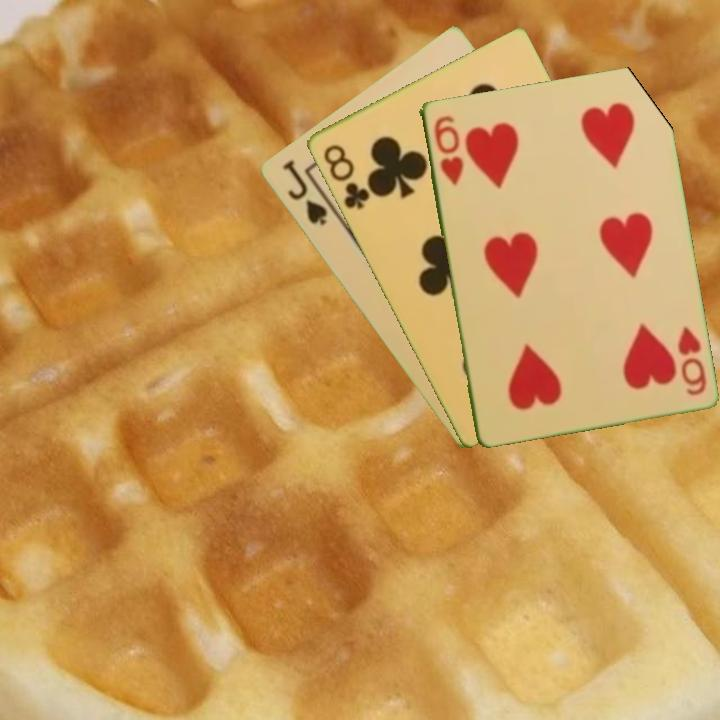6h: (430, 111, 466, 188), (673, 322, 709, 398)
8c: (319, 140, 372, 212)
Js: (278, 156, 330, 229)
